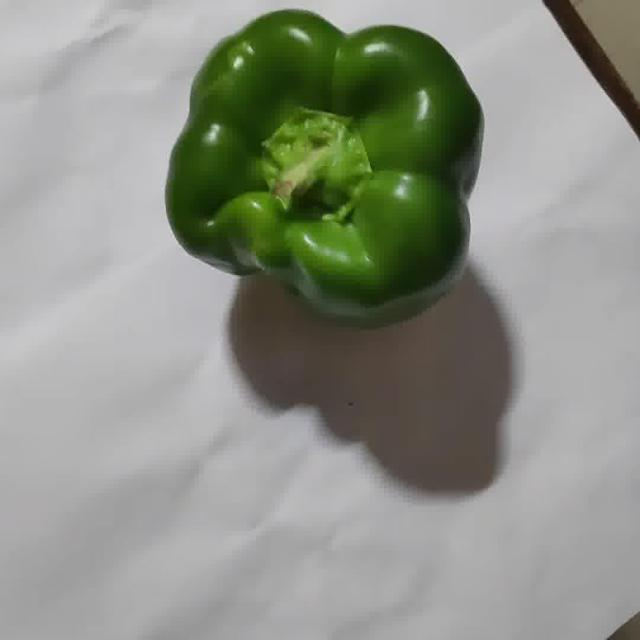Bell Pepper: (166, 11, 481, 322)
